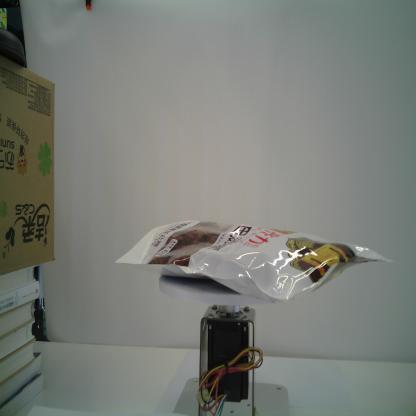Dried Food: (115, 220, 393, 305)
